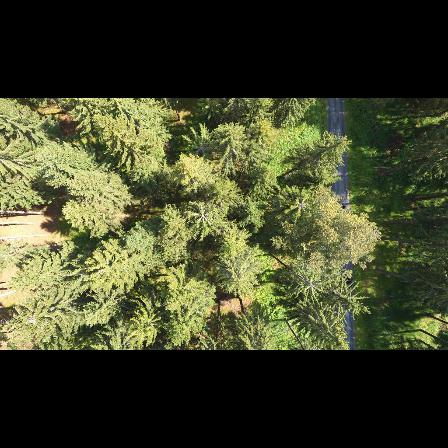Sick: (190, 203, 217, 230), (189, 133, 214, 161), (290, 193, 313, 218)
